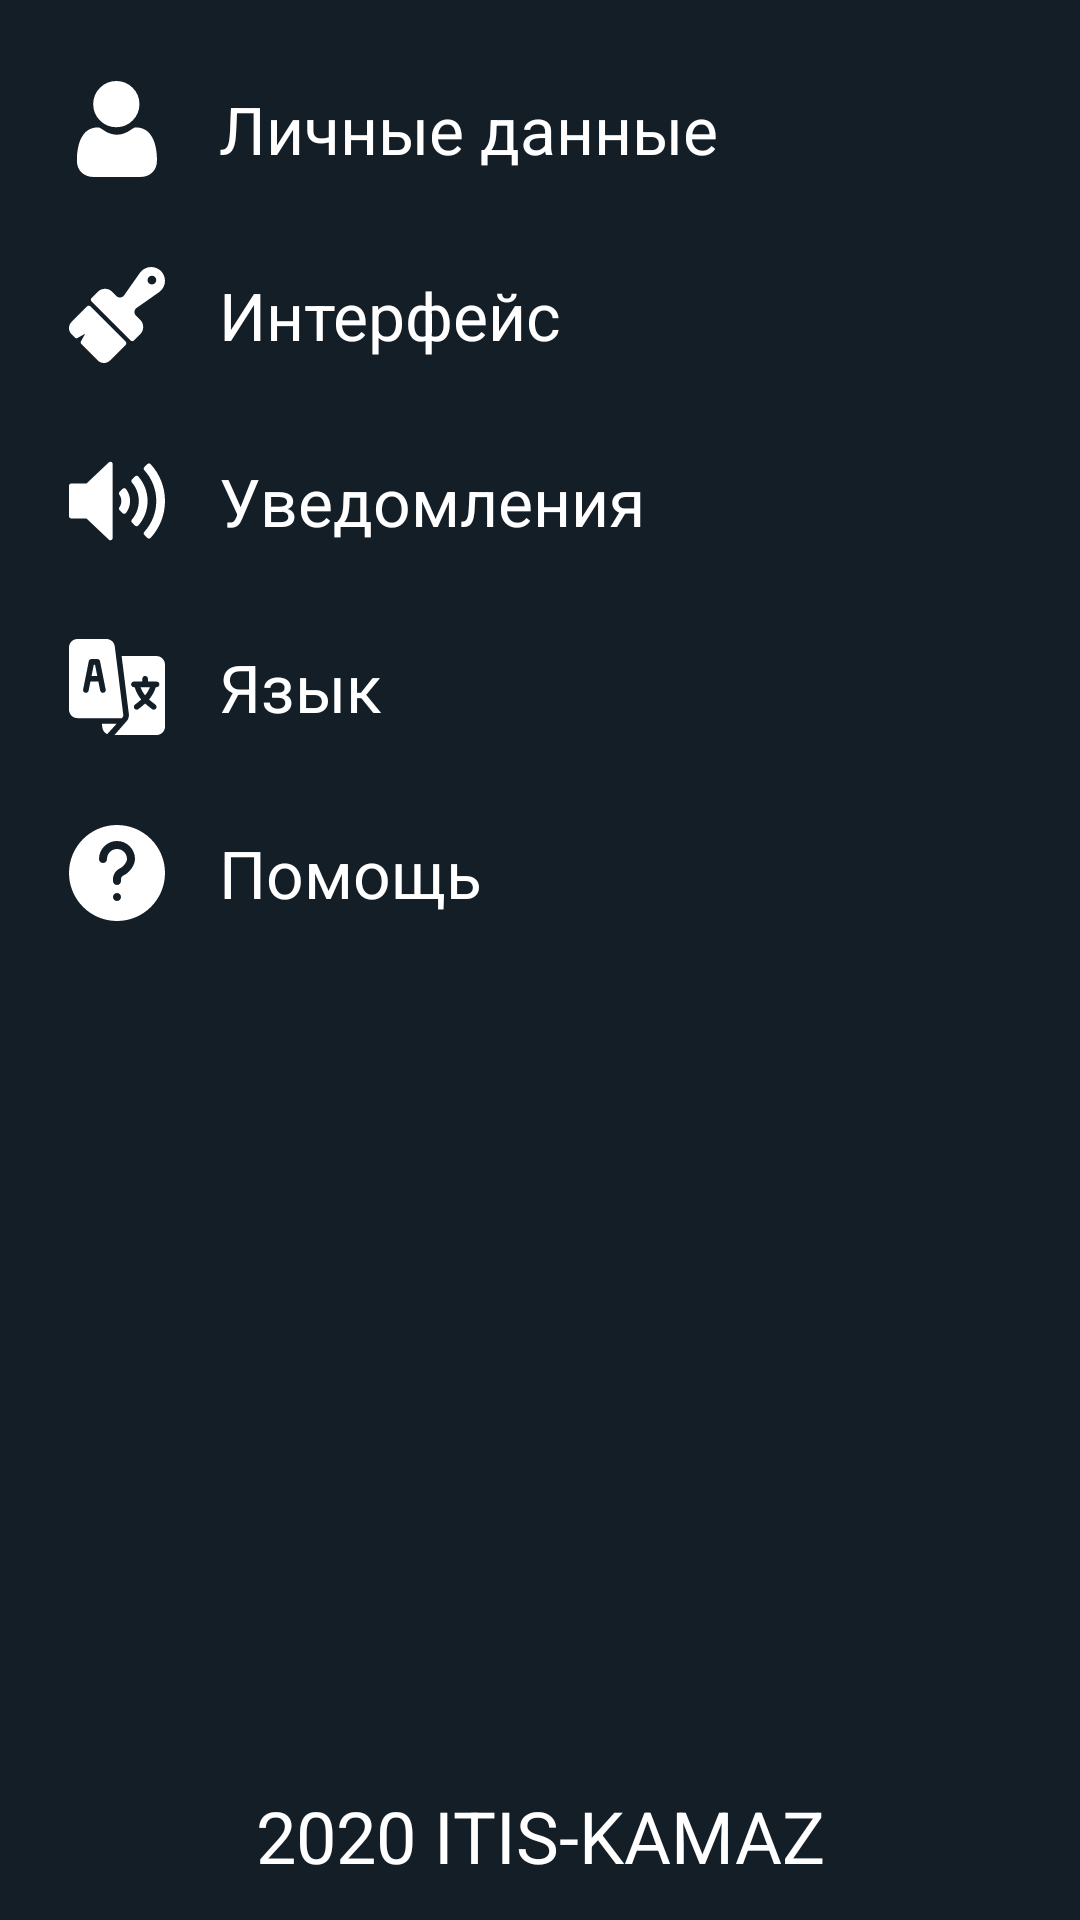

Screen size 1080px x 1920px. Icon name, then its center in pixels as (x=x, y=y):
brush: (x=117, y=315)
choose lang: (x=117, y=687)
question: (x=117, y=873)
speaker: (x=117, y=501)
user: (x=117, y=129)
